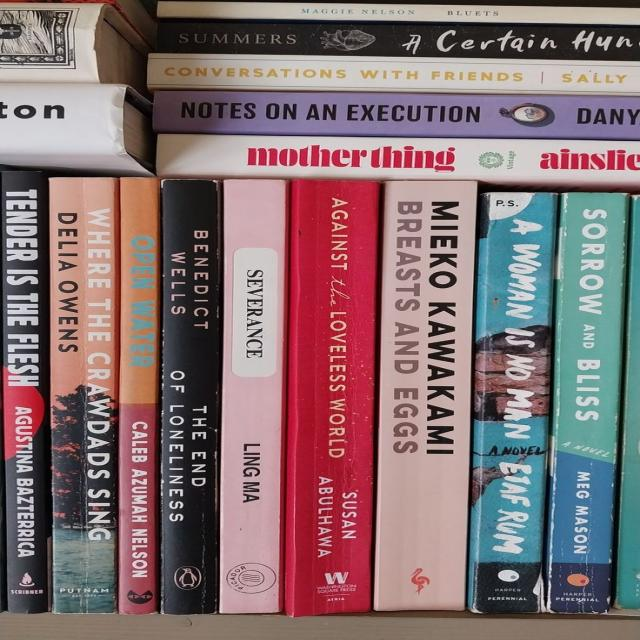book: (374, 181, 475, 610), (283, 180, 381, 616), (466, 192, 556, 614), (543, 193, 629, 610), (50, 178, 119, 613), (219, 180, 288, 613), (159, 180, 221, 614), (157, 134, 639, 189), (154, 90, 639, 139), (0, 170, 49, 613), (151, 19, 639, 61), (148, 54, 639, 94), (119, 179, 159, 613), (158, 2, 639, 25)
